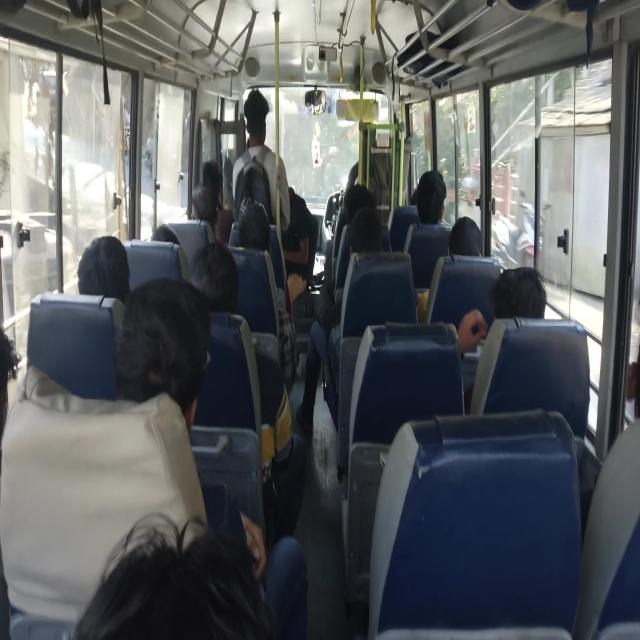person: (113, 276, 308, 637), (189, 242, 306, 539), (73, 508, 308, 639), (295, 205, 383, 434), (114, 276, 211, 432), (231, 89, 291, 231), (457, 266, 548, 354), (416, 215, 482, 322), (403, 169, 449, 253), (77, 234, 130, 304), (190, 242, 238, 312), (415, 169, 447, 225), (237, 200, 271, 251), (448, 216, 482, 256)
